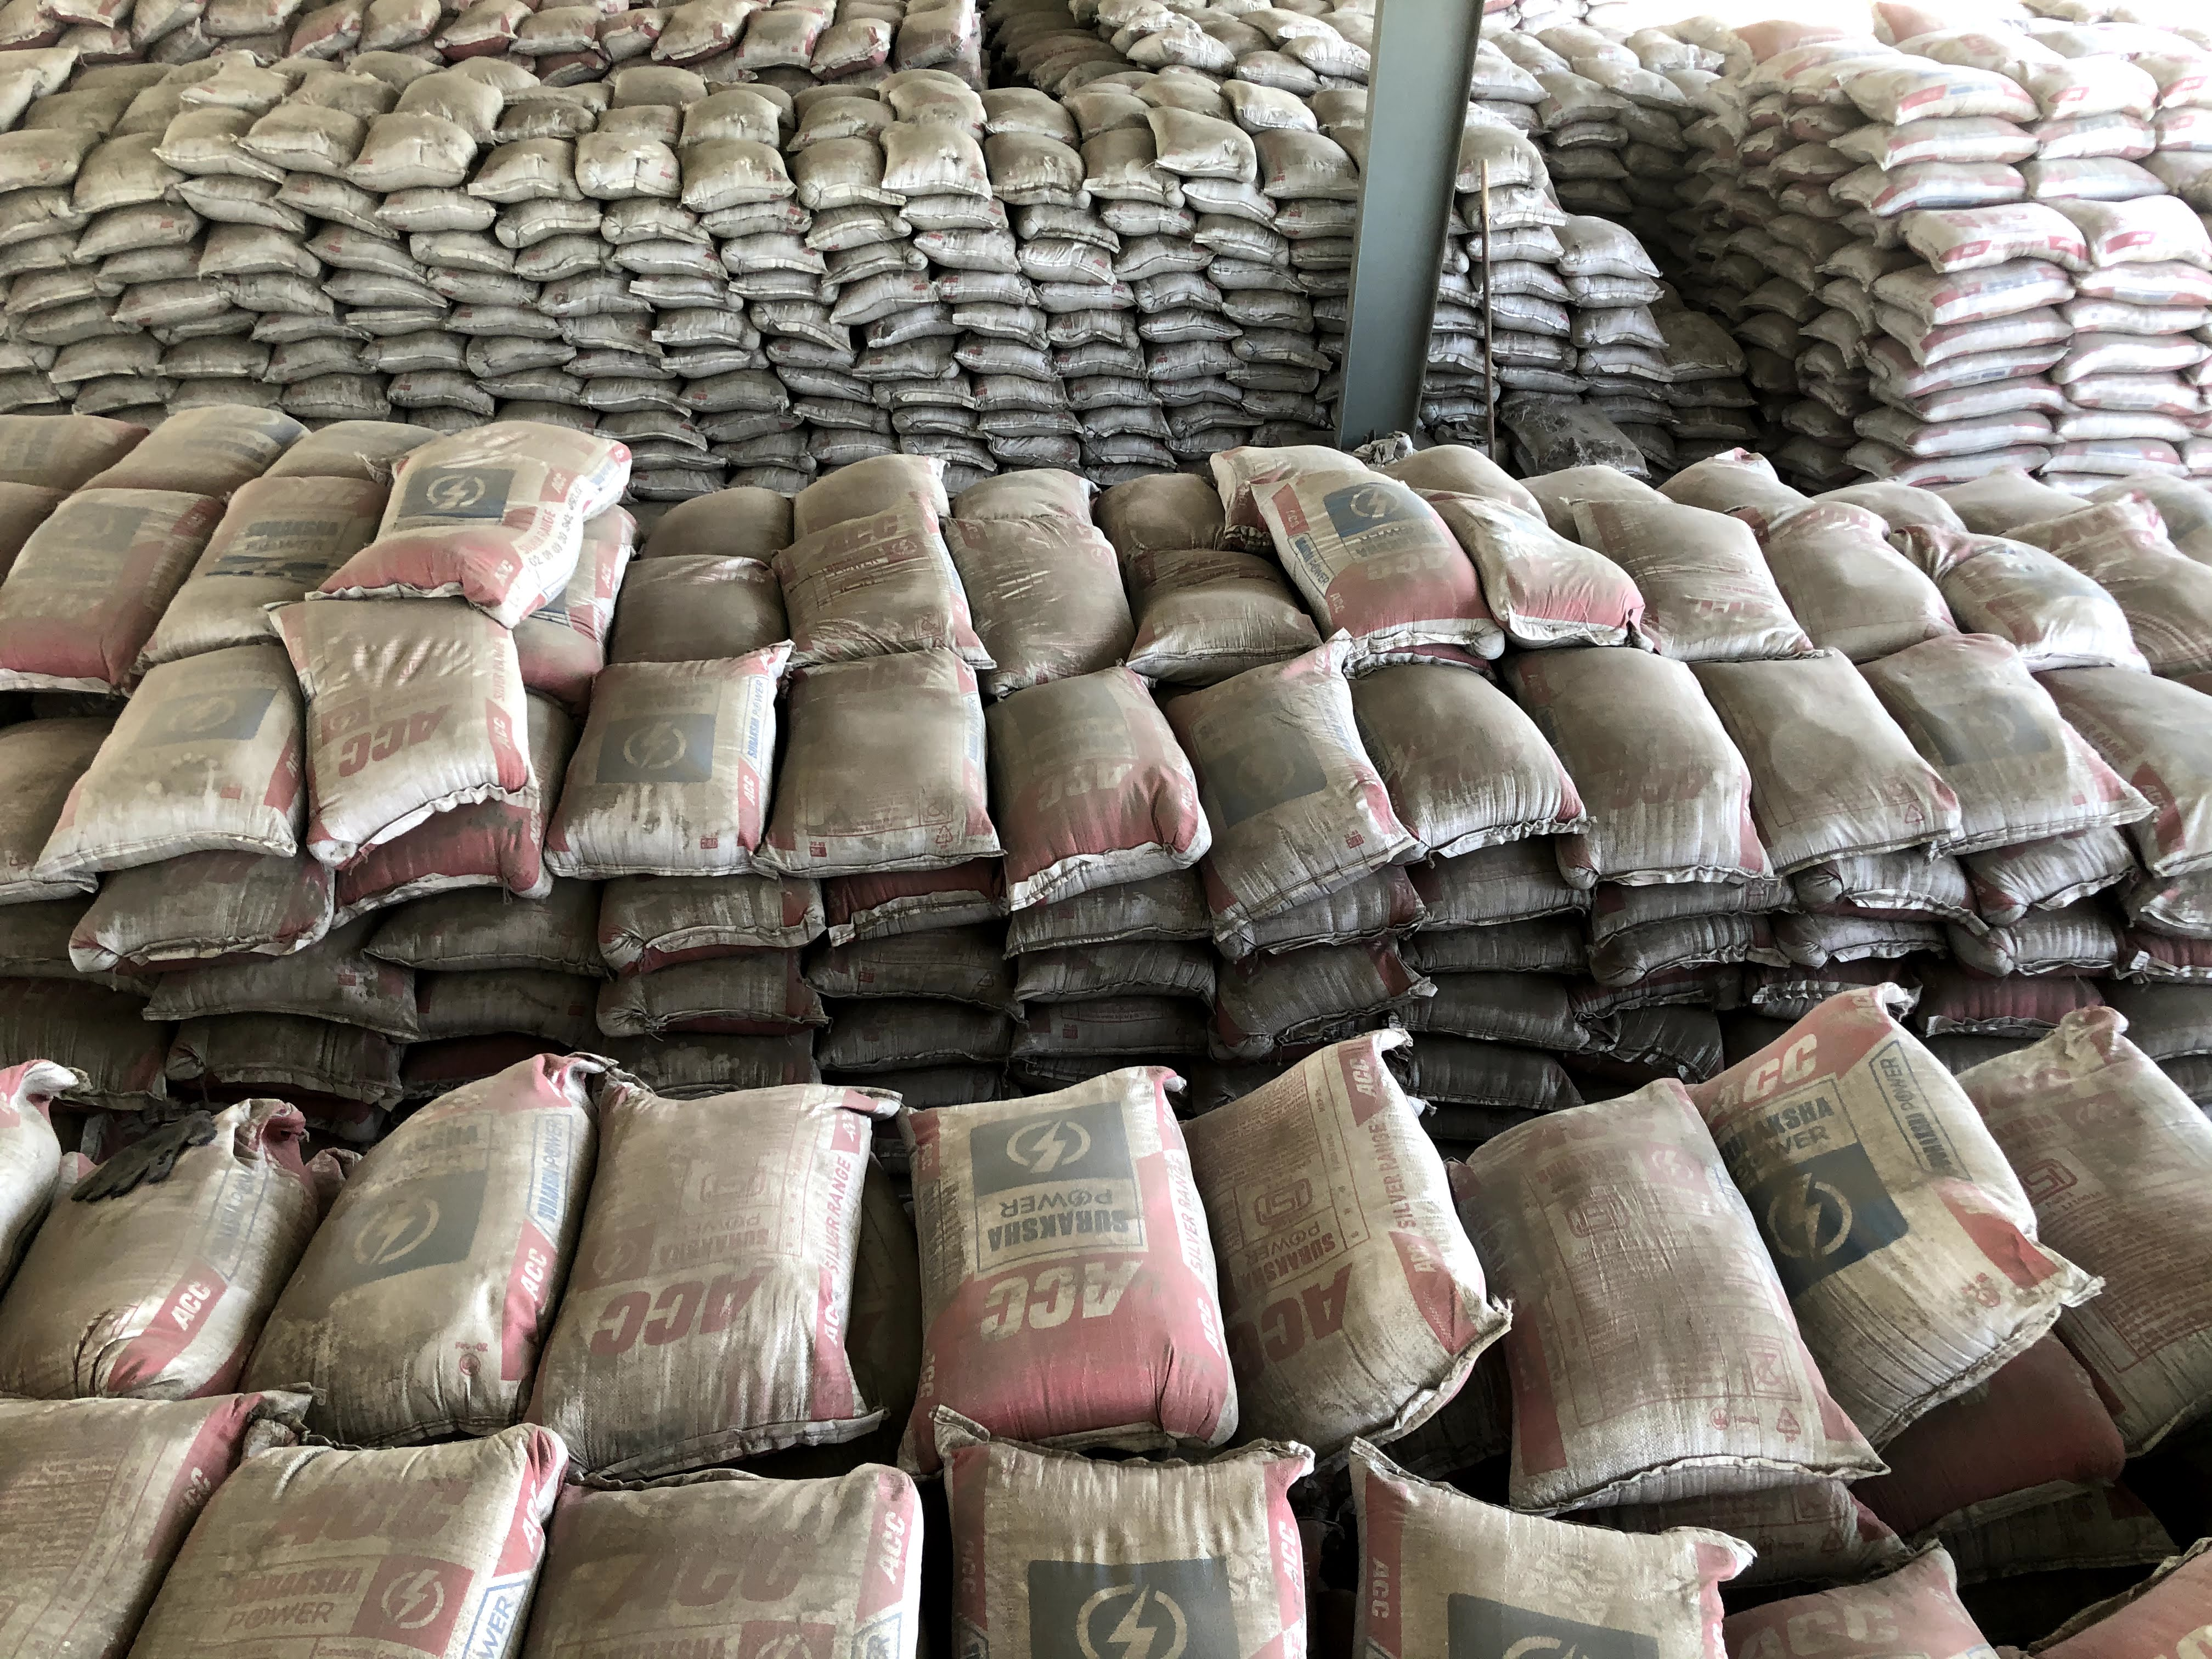cement bag: (1376, 1044, 1843, 1457), (566, 1077, 852, 1453), (871, 1082, 1214, 1373), (263, 1077, 566, 1378), (1843, 1028, 2029, 1457), (270, 612, 542, 823), (56, 1108, 263, 1378), (1505, 660, 1782, 857), (1214, 1044, 1376, 1373), (798, 652, 1028, 843), (1251, 441, 1480, 608), (111, 641, 307, 838), (1172, 690, 1406, 850), (1719, 652, 1947, 803), (2026, 631, 2212, 779), (1012, 709, 1191, 842), (618, 683, 752, 838), (1437, 488, 1623, 598), (1406, 660, 1505, 850), (451, 425, 646, 518), (1771, 512, 1944, 613), (141, 394, 275, 509), (275, 425, 451, 509), (1947, 631, 2026, 803), (1623, 512, 1771, 598), (1085, 474, 1242, 523), (812, 479, 979, 523), (646, 479, 812, 518), (979, 474, 1085, 523)
